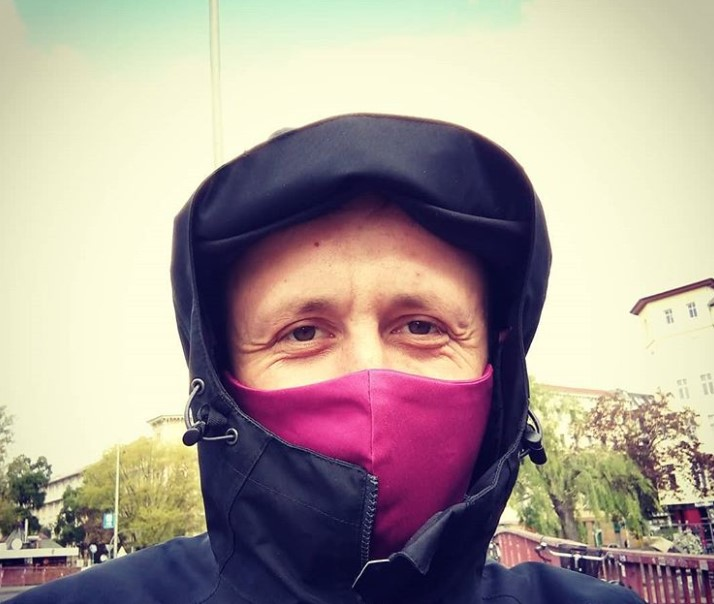face_with_mask: (178, 112, 535, 582)
